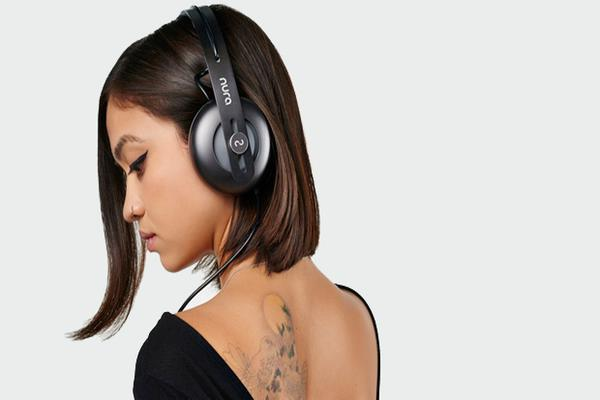headphone: (97, 1, 332, 275)
